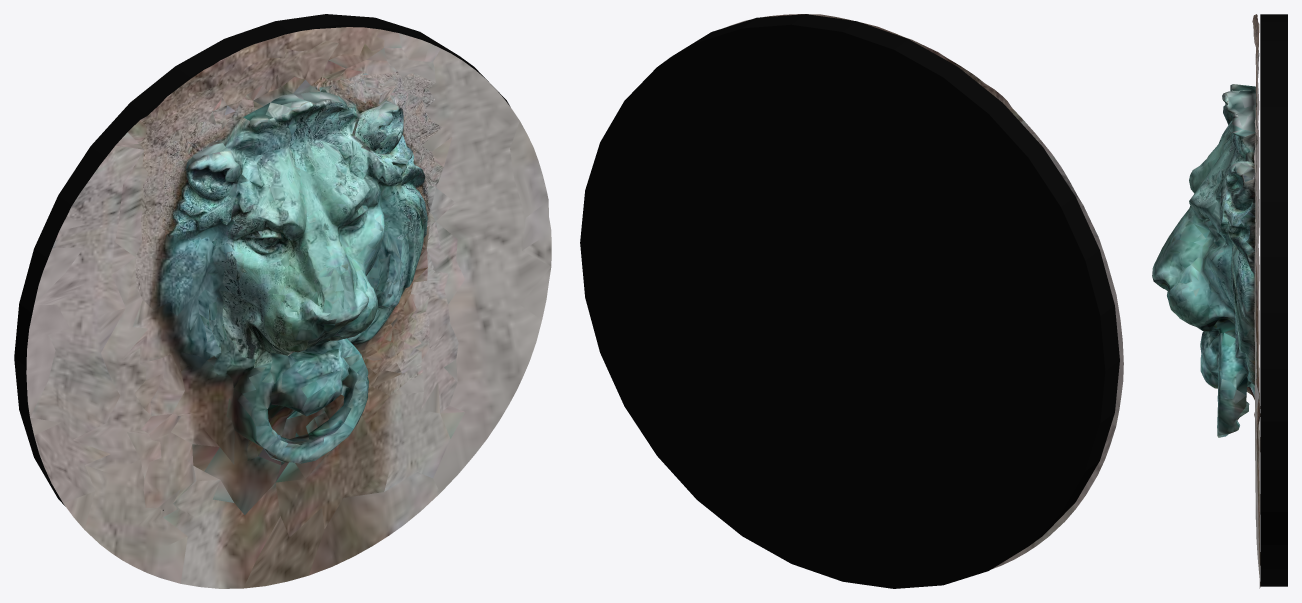
File: Butler Lion.gltf
The picture shows the model from 3 angles, left to right: view 1: azimuth 30°, elevation 25°; view 2: azimuth 150°, elevation 25°; view 3: azimuth 270°, elevation 25°; orthographic projection. The views are drawn at different scales.
Visible parts, largest first — view 1: Butler Lion; view 2: Butler Lion; view 3: Butler Lion.
Boxes of the visible parts, x1=… form: Butler Lion: x1=14, y1=14, x2=551, y2=588; Butler Lion: x1=580, y1=14, x2=1123, y2=588; Butler Lion: x1=1152, y1=14, x2=1287, y2=588.
Bounding box in the file's own units: 1.48 × 1.48 × 0.3495.
2 materials, 1 textured.
